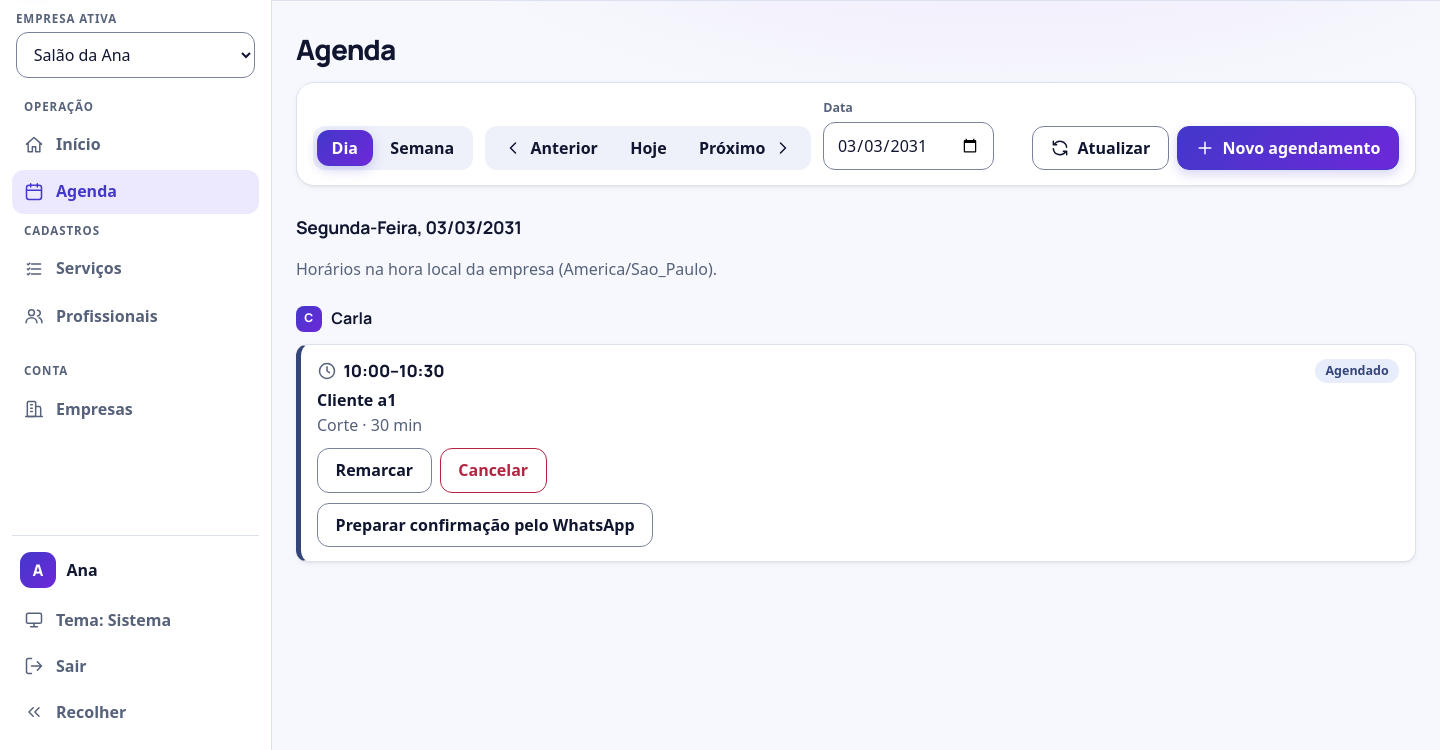
Test: WhatsApp na agenda real › não conserva a mensagem ao selecionar outra empresa
Click the button "Preparar confirmação pelo WhatsApp": (485, 525) [317,503,653,547]
(page scrolled)
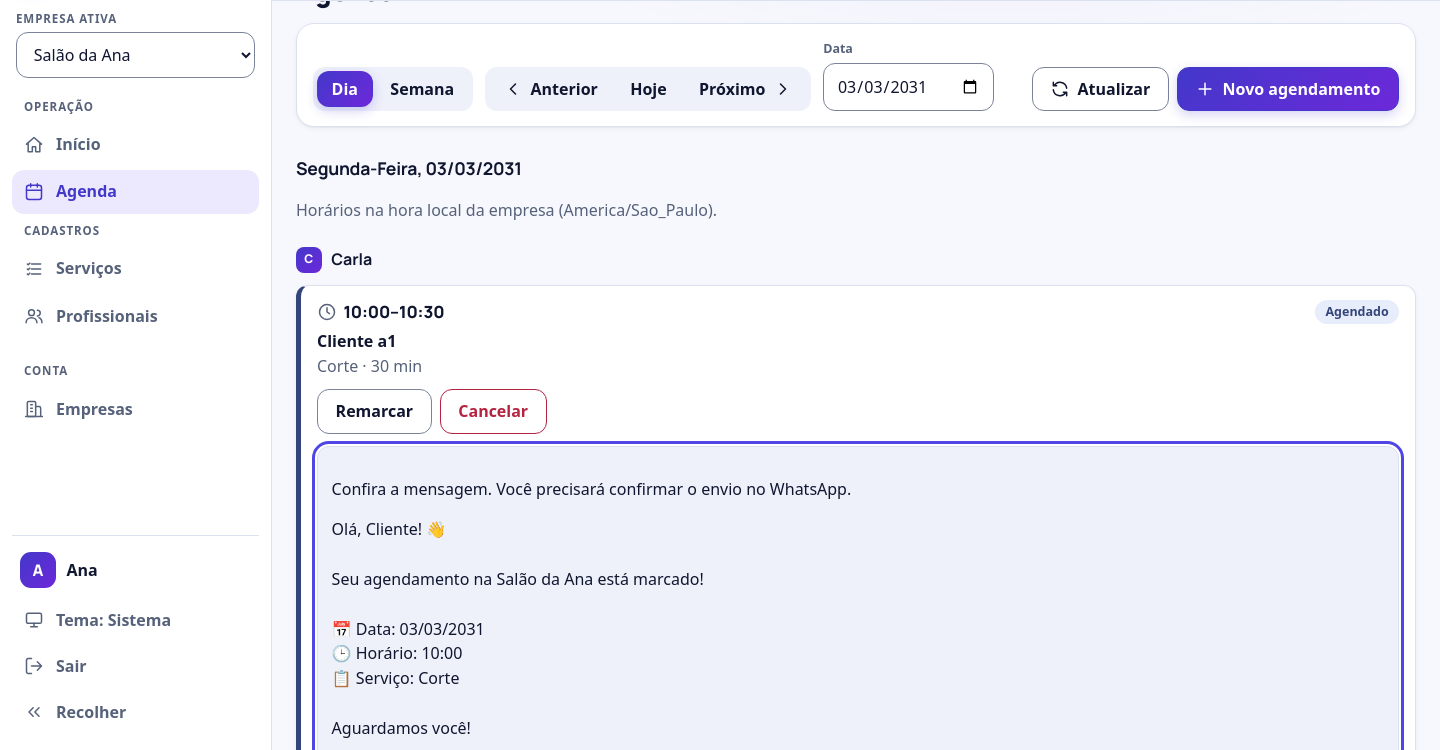
Select "Outra empresa" in the dropdown labelled "Empresa ativa": (136, 55) [16,32,255,78]
(page scrolled)
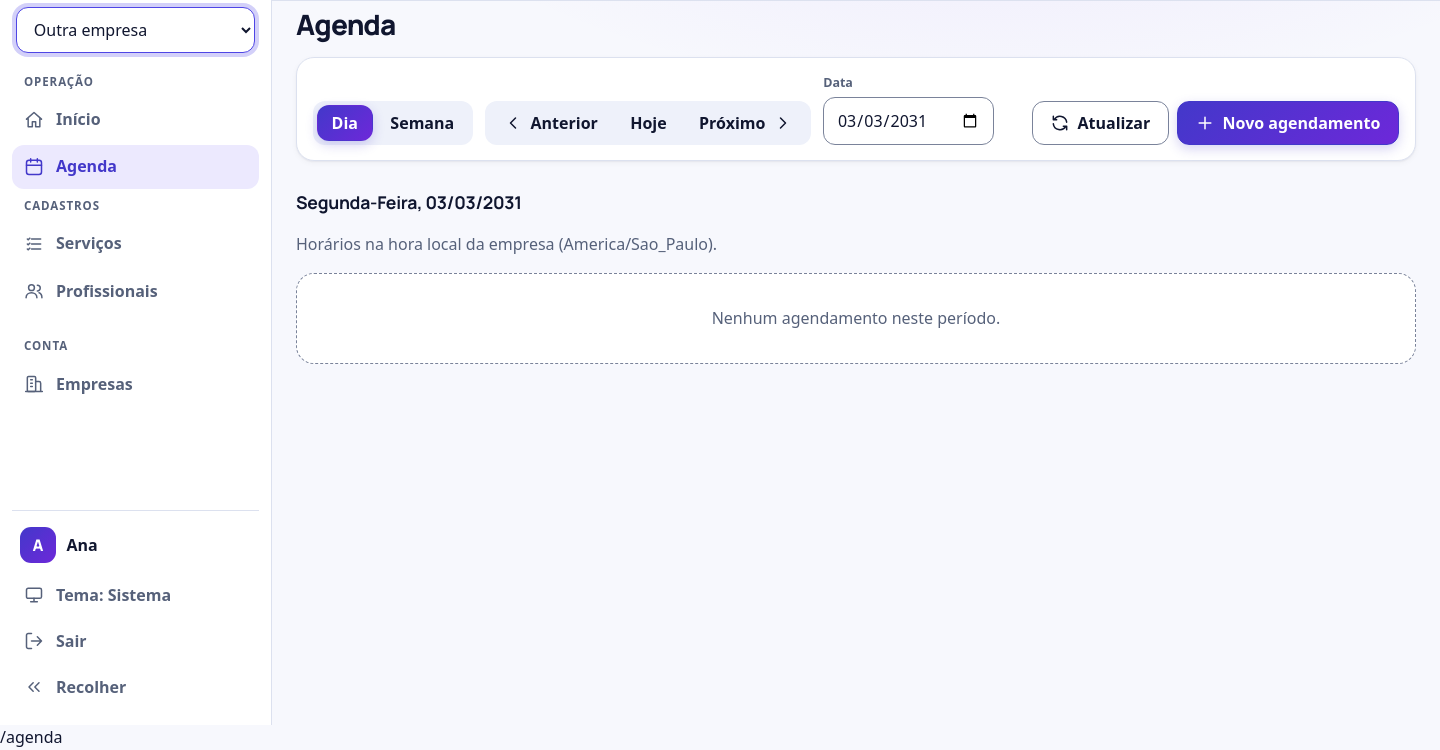
Expected: the text "Nenhum agendamento neste período." is shown, [296,273,1416,364]
